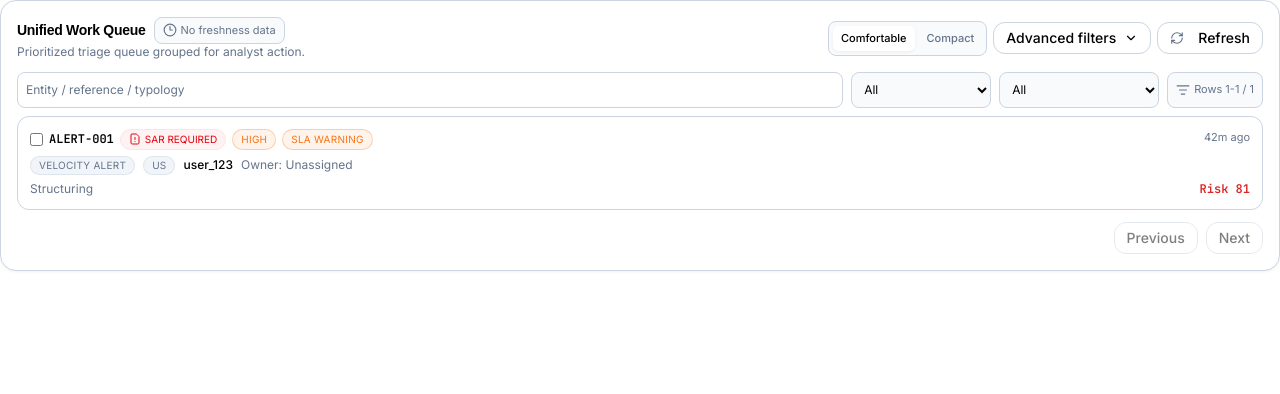
Scenario: UnifiedWorkQueue › keeps advanced filters collapsed by default and toggles them
The width and height of the screenshot is (1280, 394).
Click the button "Advanced filters" at (1072, 38), box [993,22,1151,54]
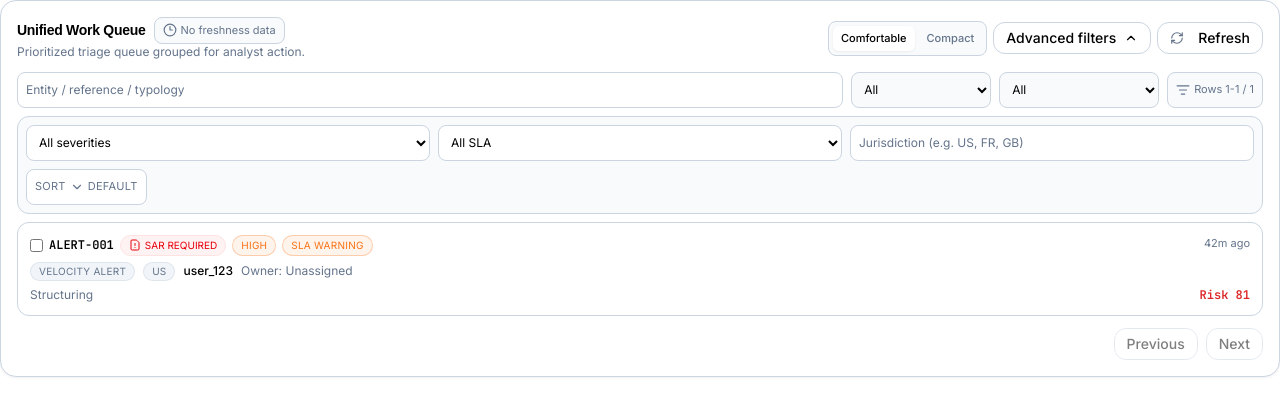
Result: the dropdown named "Severity filter" is shown at [26,124,430,160]
Result: the dropdown named "SLA filter" is shown at [438,124,842,160]
